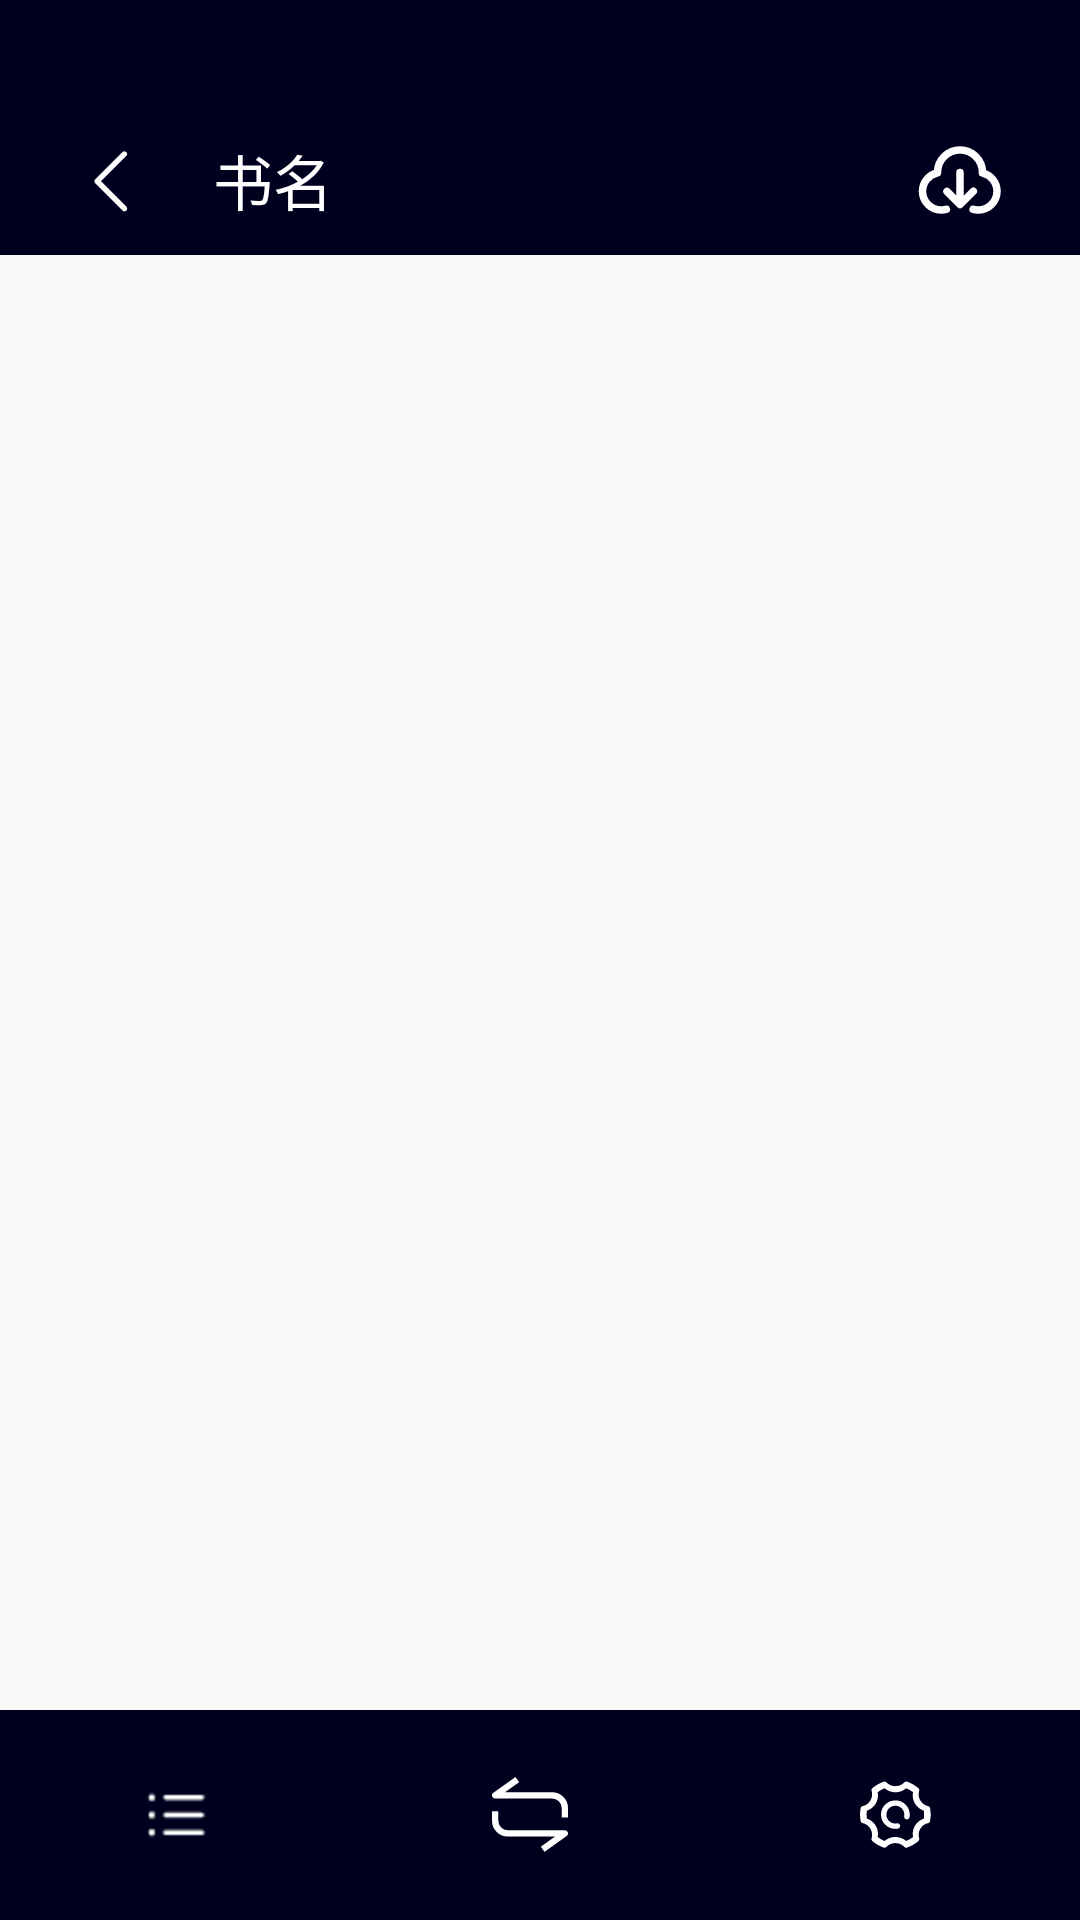

Locate icon controls on the screen. Image size 1080px×1920px, boxes as (left=x1, top=y1, right=x2, bottom=y2).
back: (left=94, top=151, right=128, bottom=212)
catalog: (left=148, top=1793, right=206, bottom=1837)
download: (left=918, top=146, right=1001, bottom=214)
settings: (left=860, top=1781, right=931, bottom=1848)
switch source: (left=492, top=1777, right=568, bottom=1852)
